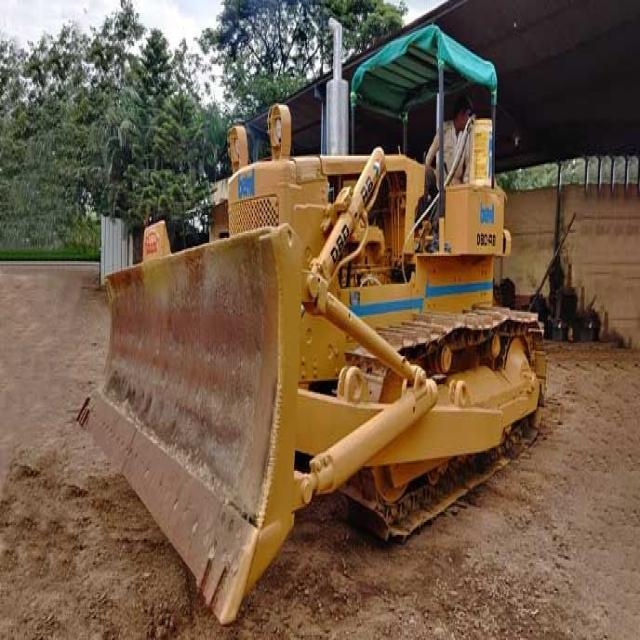buldozerpayloadergrader: (70, 21, 549, 606)
